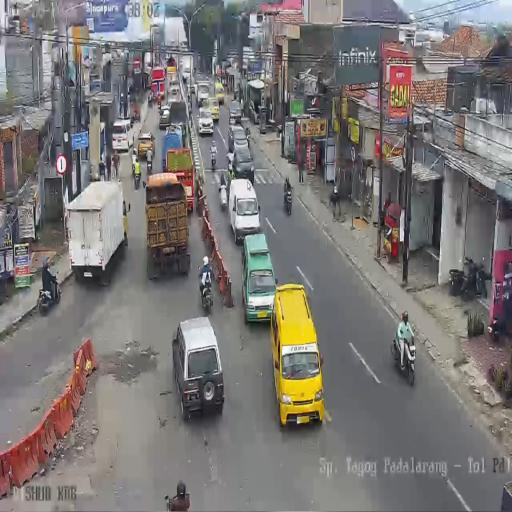car: (272, 287, 326, 427), (172, 315, 225, 419), (240, 235, 274, 322), (227, 176, 260, 243), (111, 118, 133, 153), (164, 121, 186, 149), (228, 125, 248, 154), (137, 132, 155, 158), (198, 108, 214, 136), (229, 101, 242, 126), (159, 103, 171, 129), (167, 82, 180, 105), (214, 80, 225, 104)
motorcycle: (392, 328, 416, 385), (459, 258, 487, 300), (37, 270, 62, 314), (198, 265, 213, 309), (490, 306, 508, 338), (283, 178, 292, 214), (133, 166, 141, 188), (210, 146, 217, 168), (146, 153, 153, 173), (276, 124, 282, 139)
truck: (64, 180, 127, 286), (164, 146, 195, 213), (151, 67, 166, 104), (182, 66, 195, 98), (196, 80, 210, 107), (166, 57, 177, 80), (144, 52, 152, 75)
